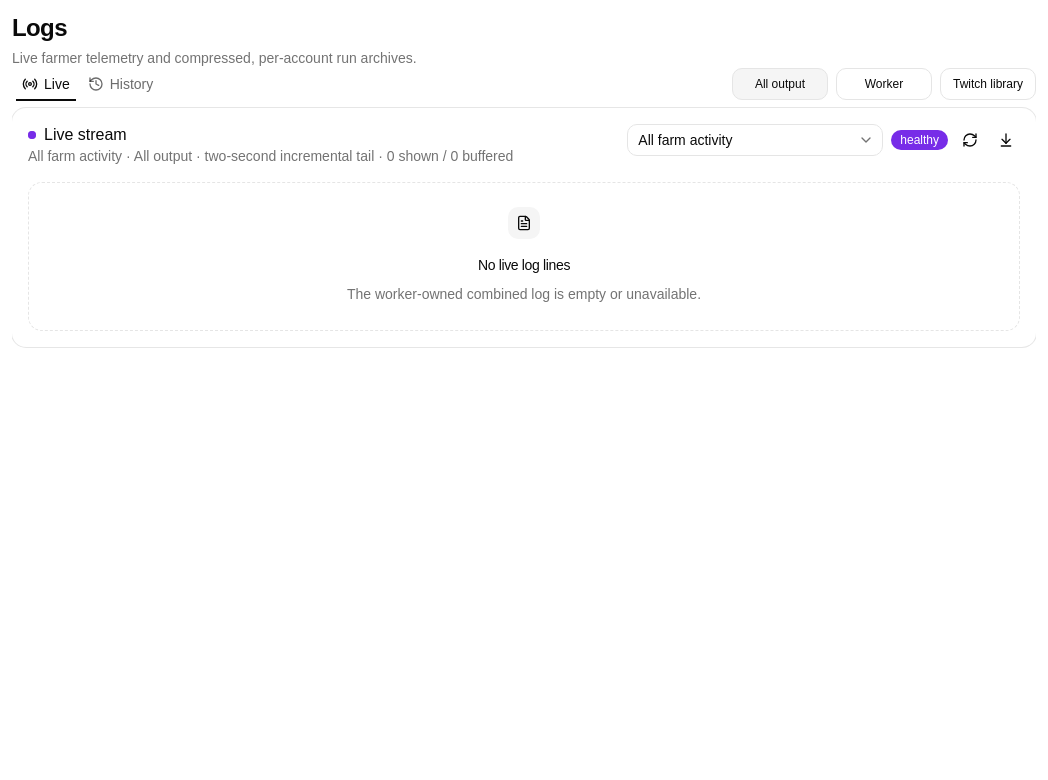
Test: LogsPage › shows truncated run history, pages older lines, and exposes the gzip download
This screenshot has width=1048, height=780.
Click the tab "History" at (120, 84), box [81, 72, 160, 96]
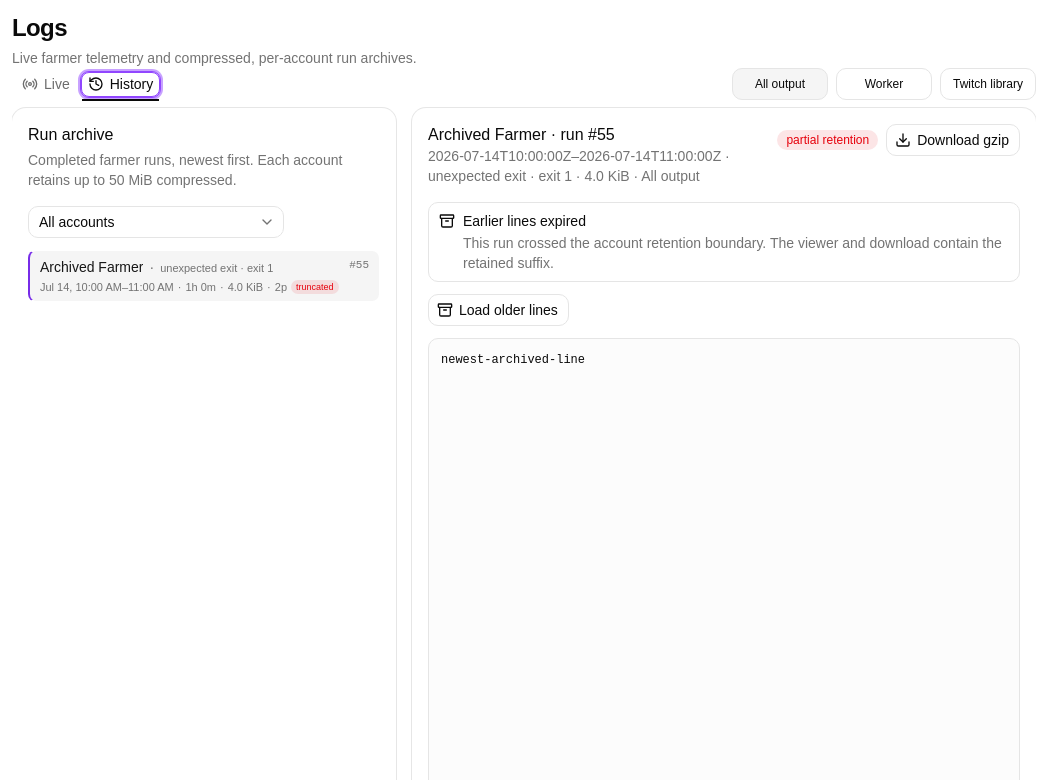
Result: the icon "truncated" is shown at [291, 280, 338, 294]
Result: the text "newest-archived-line" is shown at [441, 353, 585, 367]
Result: the text "unexpected exit · exit 1" is shown at [160, 260, 273, 276]
Click the button "Load older lines" at (498, 310), box [428, 294, 569, 326]
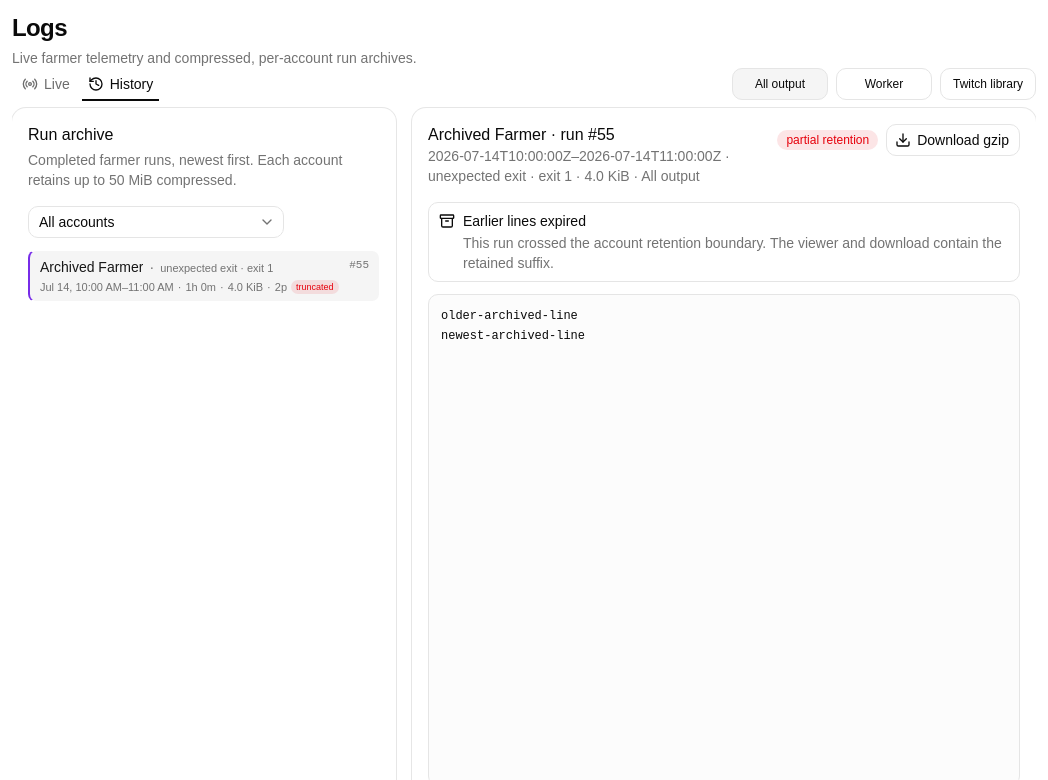
Result: the text "older-archived-line newest-archived-line" is shown at [441, 309, 585, 342]
